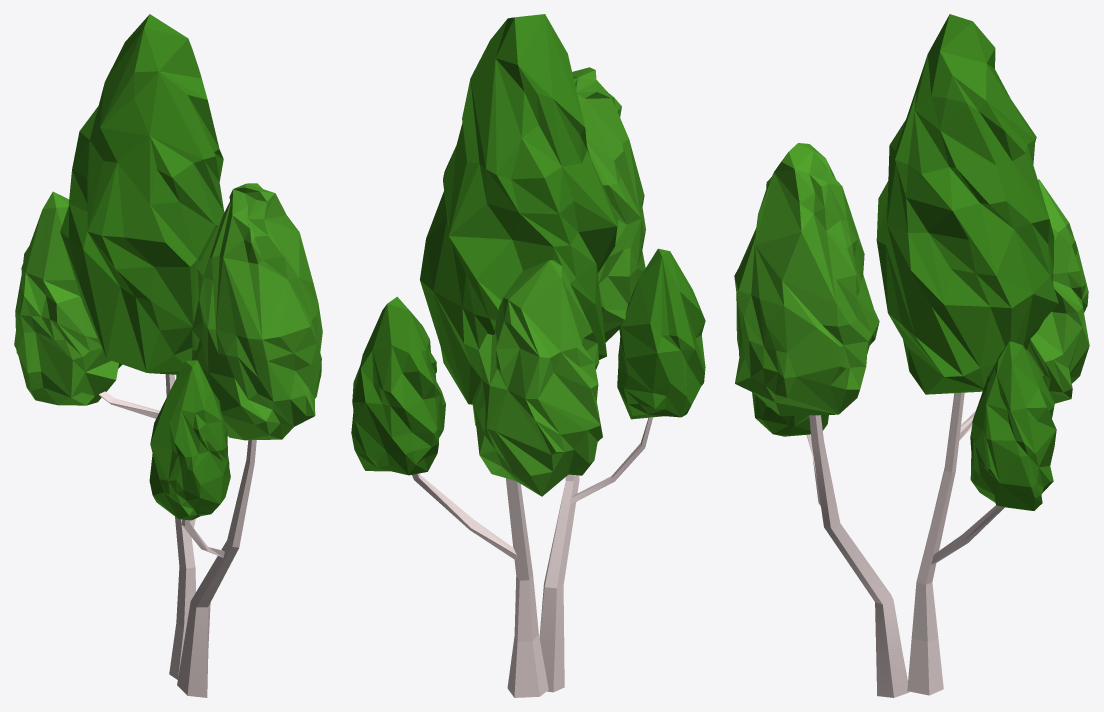
Rendered from Birch_01.FBX.
The picture shows the model from 3 angles, left to right: view 1: azimuth 30°, elevation 25°; view 2: azimuth 150°, elevation 25°; view 3: azimuth 270°, elevation 25°; orthographic projection. The views are drawn at different scales.
Parts seen in each view (by area): view 1: Leaves_02, Leaves_03, Leaves_00, Leaves_04, Trunk; view 2: Leaves_02, Leaves_00, Leaves_01, Leaves_04, Trunk, Leaves_03; view 3: Leaves_02, Leaves_03, Trunk, Leaves_01, Leaves_00, Leaves_04.
Part boxes in pixels (<box>): Leaves_02: <box>60,14,224,374</box>; Leaves_03: <box>192,183,322,440</box>; Leaves_00: <box>14,191,122,405</box>; Leaves_04: <box>149,360,230,520</box>; Trunk: <box>99,374,256,697</box>; Leaves_02: <box>420,14,617,404</box>; Leaves_00: <box>472,260,602,496</box>; Leaves_01: <box>351,296,445,475</box>; Leaves_04: <box>617,248,705,419</box>; Trunk: <box>412,417,652,697</box>; Leaves_03: <box>572,67,645,342</box>; Leaves_02: <box>876,14,1058,394</box>; Leaves_03: <box>734,143,879,415</box>; Trunk: <box>806,392,1004,697</box>; Leaves_01: <box>970,341,1056,510</box>; Leaves_00: <box>1026,179,1089,403</box>; Leaves_04: <box>752,392,828,436</box>.
Size of the model in its own units: 30.99 by 83.68 by 40.27.
